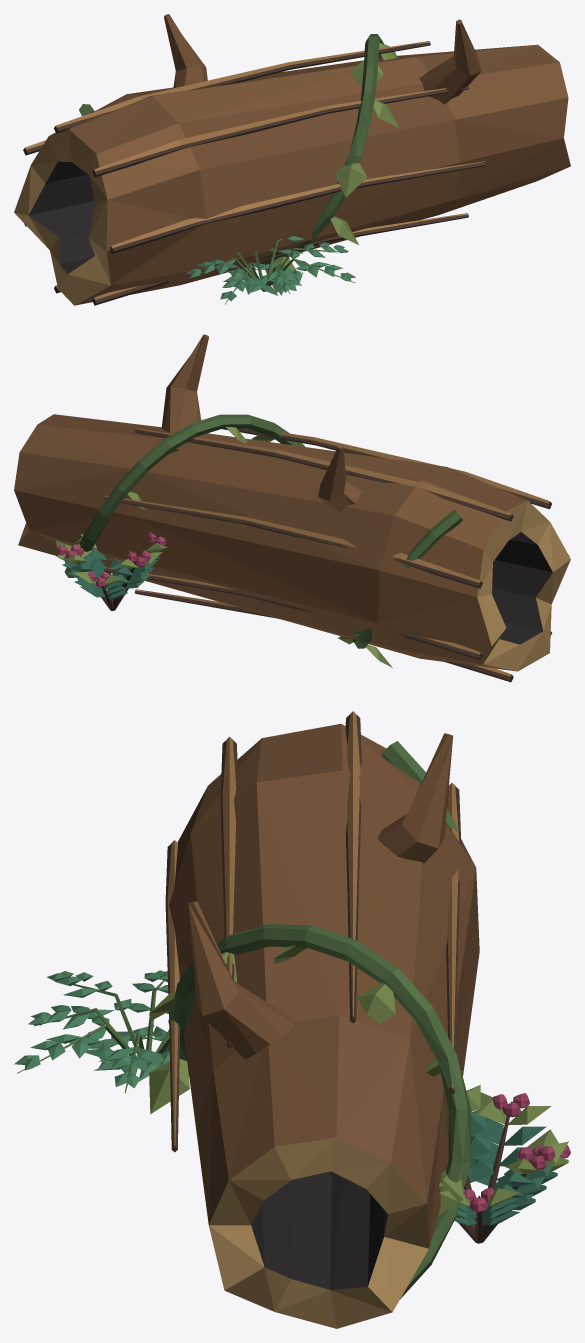
File: fallen_log.glb
3 renders of one model, top to bottom at view 1: azimuth 30°, elevation 25°; view 2: azimuth 150°, elevation 25°; view 3: azimuth 270°, elevation 25°, orthographic. The views are drawn at different scales.
Visible parts, largest first — view 1: fallen_log; view 2: fallen_log; view 3: fallen_log.
Boxes of the visible parts, box(x1,y1,x2,y2) form: fallen_log: box(14, 14, 570, 305); fallen_log: box(14, 334, 570, 682); fallen_log: box(14, 711, 570, 1328).
Size of the model in its own units: 3.57 by 1.73 by 2.18.
